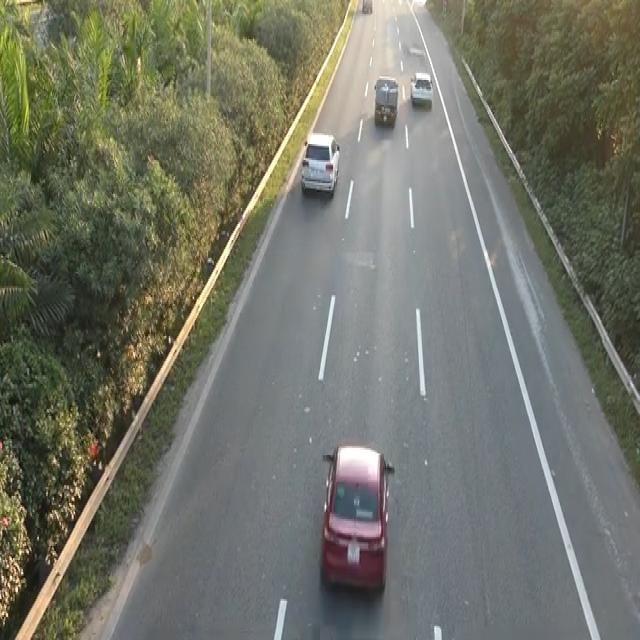bus: (317, 439, 396, 601)
car: (299, 128, 341, 197), (409, 67, 433, 106)
minivan: (372, 73, 399, 126)
